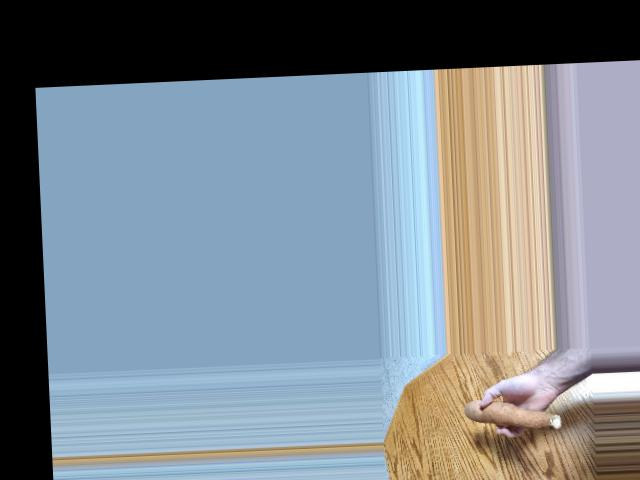sweet_potato: (460, 400, 569, 435)
